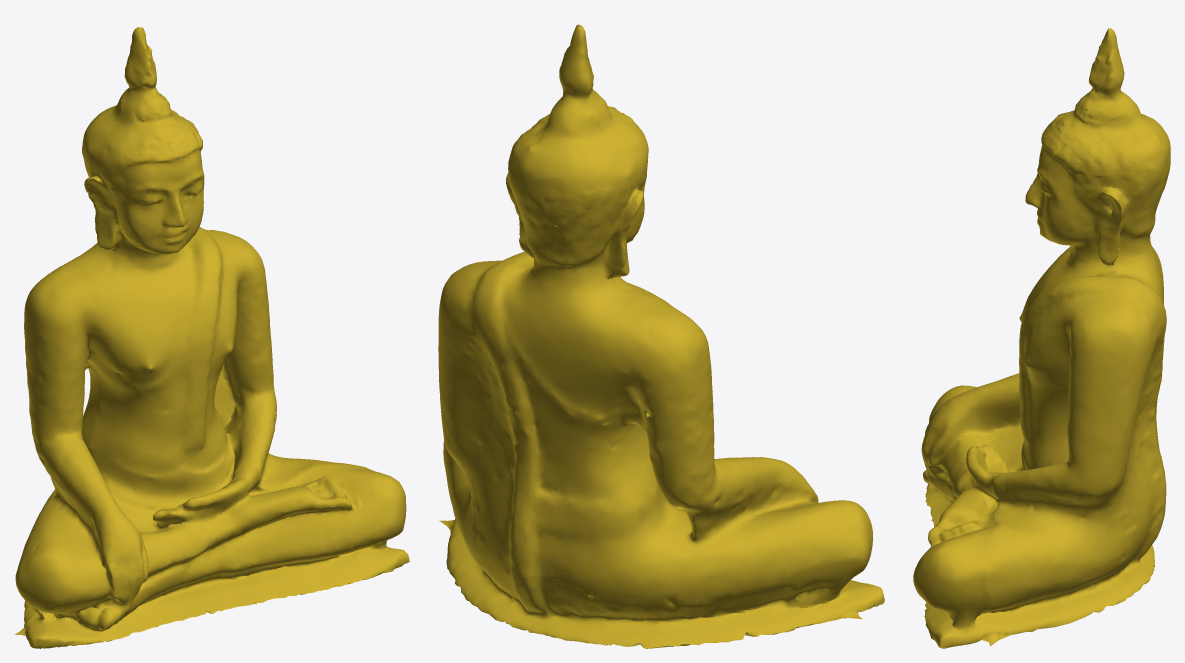
The model's file is thai_buddha_statue.glb.
3 renders of one model, left to right at view 1: azimuth 30°, elevation 25°; view 2: azimuth 150°, elevation 25°; view 3: azimuth 270°, elevation 25°, orthographic. The views are drawn at different scales.
Visible parts, largest first — view 1: meshNode; view 2: meshNode; view 3: meshNode.
Part boxes in pixels (x1,y1,x2,y2): meshNode: [15, 27, 409, 648]; meshNode: [438, 24, 884, 648]; meshNode: [913, 28, 1170, 648].
Size of the model in its own units: 12.48 by 17.02 by 7.34.
